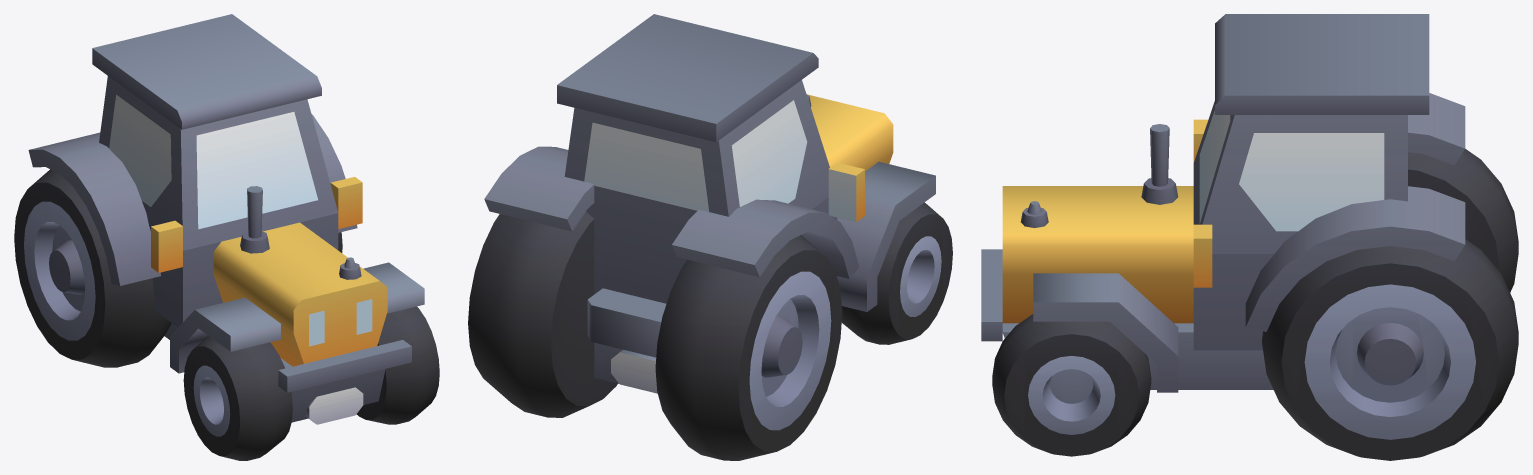
Rendered from k-car-tractor.glb.
3 renders of one model, left to right at view 1: azimuth 30°, elevation 25°; view 2: azimuth 150°, elevation 25°; view 3: azimuth 270°, elevation 25°, orthographic. The views are drawn at different scales.
Visible parts, largest first — view 1: body, wheel-back-right, wheel-front-right, wheel-front-left; view 2: body, wheel-back-right, wheel-back-left, wheel-front-right; view 3: body, wheel-back-left, wheel-front-left, wheel-back-right.
Part boxes in pixels (bbox=[...]): body: bbox=[28, 14, 424, 424]; wheel-back-right: bbox=[14, 169, 171, 367]; wheel-front-right: bbox=[183, 336, 292, 460]; wheel-front-left: bbox=[356, 306, 439, 424]; body: bbox=[484, 14, 935, 393]; wheel-back-right: bbox=[655, 235, 842, 460]; wheel-back-left: bbox=[468, 211, 617, 417]; wheel-front-right: bbox=[841, 202, 952, 344]; body: bbox=[981, 14, 1465, 392]; wheel-back-left: bbox=[1262, 239, 1518, 460]; wheel-front-left: bbox=[992, 314, 1151, 456]; wheel-back-right: bbox=[1408, 149, 1518, 292].
Bounding box in the file's own units: 1.34 × 1.6 × 2.2.
Materials: 1 (1 with a texture image).
